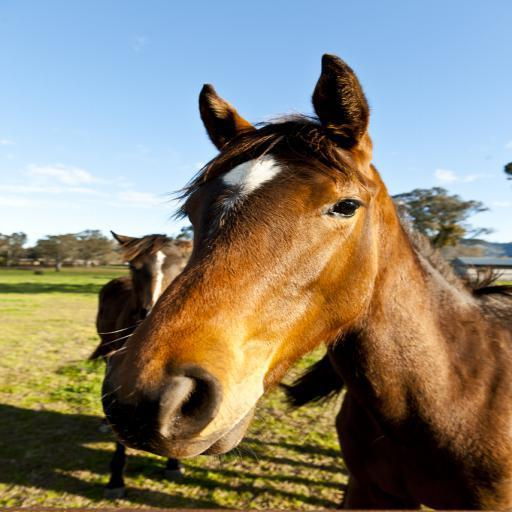horse: (99, 48, 512, 512), (90, 228, 196, 496)
